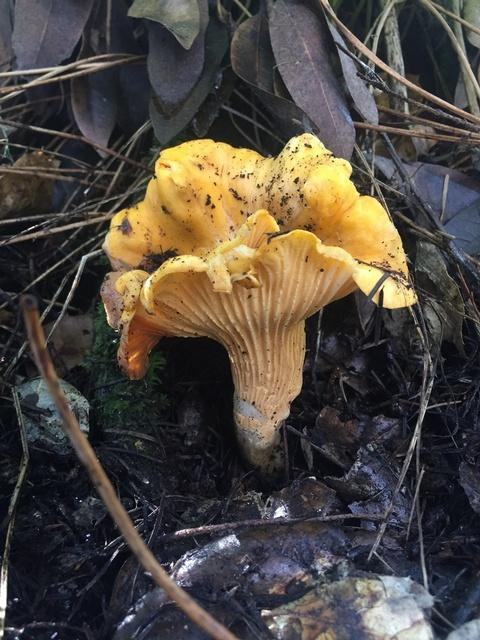edible_mushroom: (98, 131, 418, 477)
